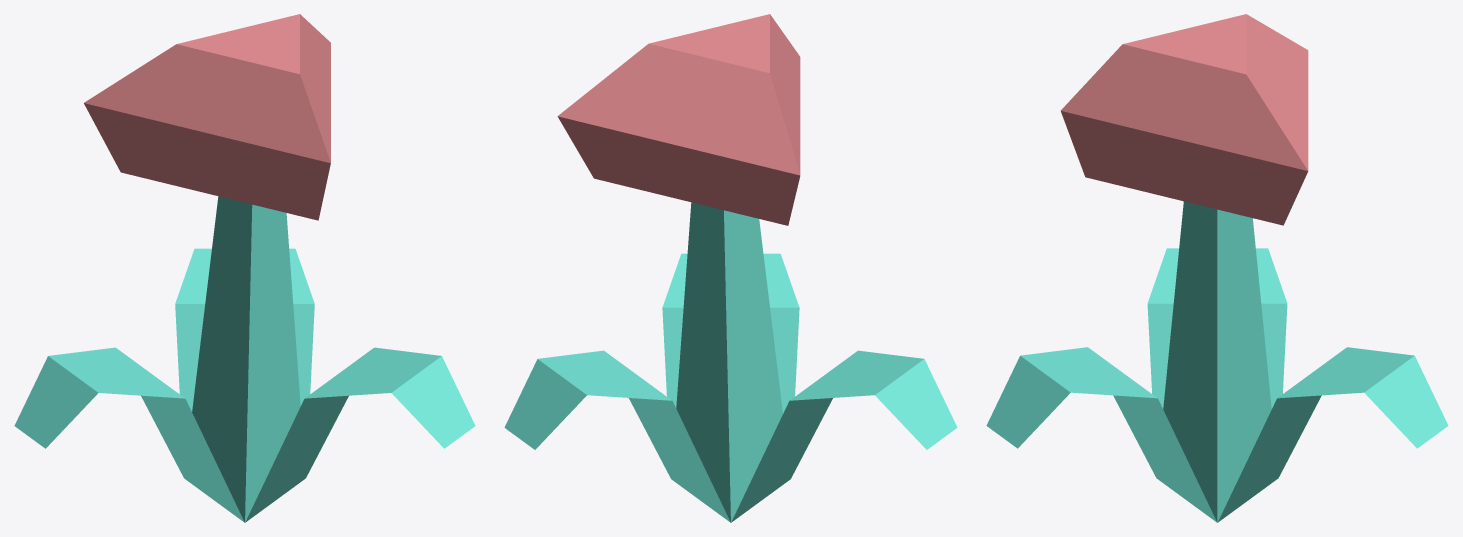
Rendered from flower_red.glb.
The picture shows the model from 3 angles, left to right: view 1: azimuth 30°, elevation 25°; view 2: azimuth 150°, elevation 25°; view 3: azimuth 270°, elevation 25°; orthographic projection.
Parts seen in each view (by area): view 1: flower_redB; view 2: flower_redB; view 3: flower_redB.
Part boxes in pixels (<box>): flower_redB: <box>14,14,475,522</box>; flower_redB: <box>504,14,957,522</box>; flower_redB: <box>986,14,1448,522</box>.
Bounding box in the file's own units: 0.2073 × 0.2585 × 0.2392.
